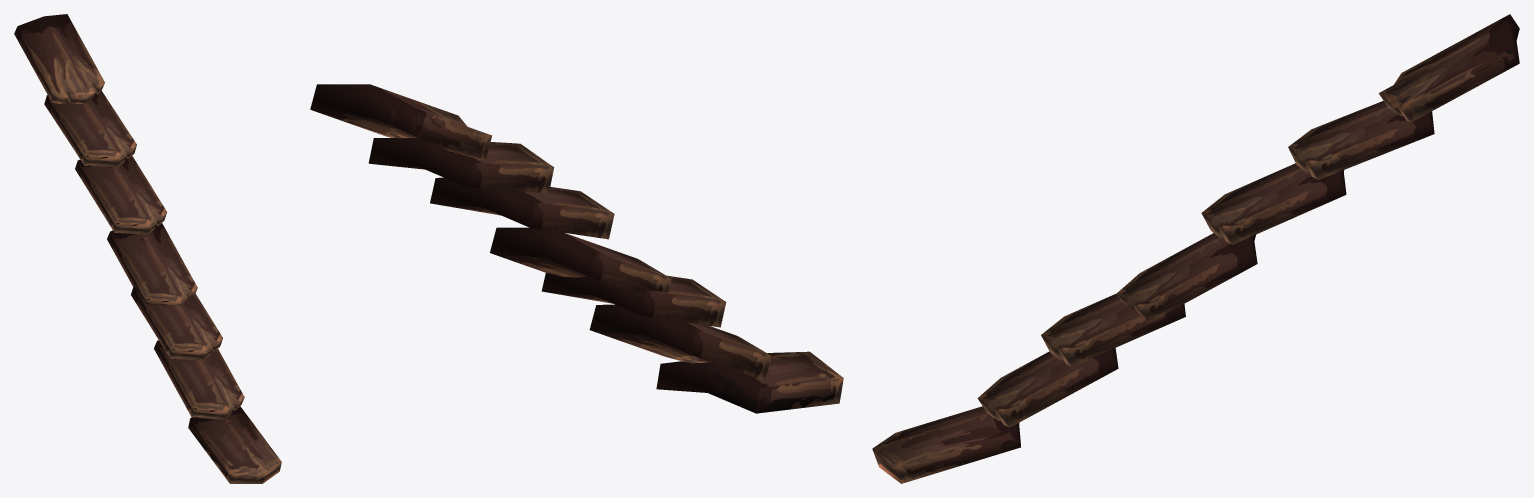
File: VV-RoofTile1.fbx
3 views of the same model, side by side, from view 1: azimuth 30°, elevation 25°; view 2: azimuth 150°, elevation 25°; view 3: azimuth 270°, elevation 25° (orthographic). The views are drawn at different scales.
Parts seen in each view (by area): view 1: RoofTile.1; view 2: RoofTile.1; view 3: RoofTile.1.
Boxes of the visible parts, left/top/right/bottom form: RoofTile.1: left=14, top=14, right=281, bottom=483; RoofTile.1: left=310, top=84, right=843, bottom=413; RoofTile.1: left=872, top=14, right=1519, bottom=483.
Bounding box in the file's own units: 0.3256 × 1.86 × 2.47.
